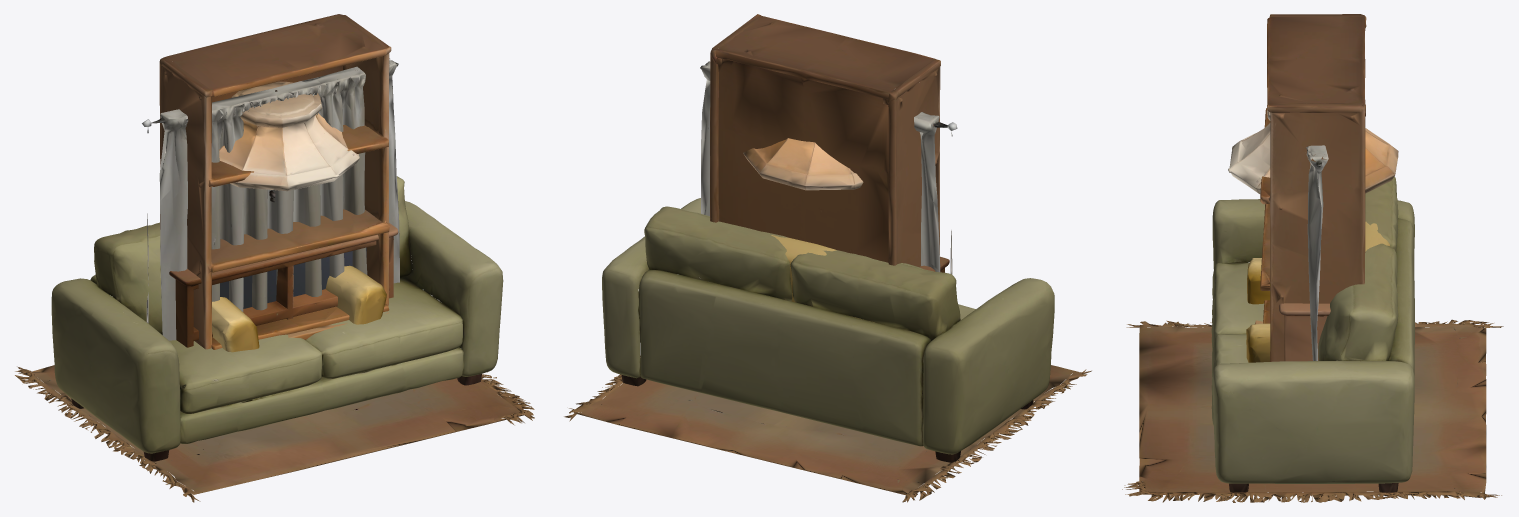
The model's file is salon.glb.
3 renders of one model, left to right at view 1: azimuth 30°, elevation 25°; view 2: azimuth 150°, elevation 25°; view 3: azimuth 270°, elevation 25°, orthographic. The views are drawn at different scales.
Parts seen in each view (by area): view 1: canape, bibliotheque, rideau, tapis, abat-jour, console, fauteuil, ecran, tringle; view 2: canape, bibliotheque, tapis, abat-jour, rideau, fauteuil; view 3: canape, tapis, bibliotheque, abat-jour, rideau, fauteuil, console.
Boxes of the visible parts, x1=… form: canape: x1=51, y1=176, x2=503, y2=463; bibliotheque: x1=159, y1=14, x2=391, y2=349; rideau: x1=159, y1=58, x2=399, y2=340; tapis: x1=15, y1=365, x2=534, y2=502; abat-jour: x1=219, y1=81, x2=359, y2=191; console: x1=169, y1=223, x2=398, y2=347; fauteuil: x1=212, y1=265, x2=386, y2=352; ecran: x1=220, y1=251, x2=352, y2=308; tringle: x1=142, y1=60, x2=398, y2=323; canape: x1=602, y1=198, x2=1054, y2=462; bibliotheque: x1=710, y1=14, x2=940, y2=267; tapis: x1=564, y1=356, x2=1091, y2=502; abat-jour: x1=743, y1=138, x2=863, y2=190; rideau: x1=701, y1=65, x2=940, y2=272; fauteuil: x1=731, y1=235, x2=860, y2=318; canape: x1=1211, y1=176, x2=1414, y2=495; tapis: x1=1122, y1=319, x2=1503, y2=502; bibliotheque: x1=1260, y1=14, x2=1366, y2=361; abat-jour: x1=1228, y1=110, x2=1398, y2=193; rideau: x1=1305, y1=145, x2=1328, y2=360; fauteuil: x1=1246, y1=221, x2=1389, y2=362; console: x1=1279, y1=303, x2=1330, y2=361.
Size of the model in its own units: 2 by 1.8 by 1.76.
12 materials, 12 textured.
